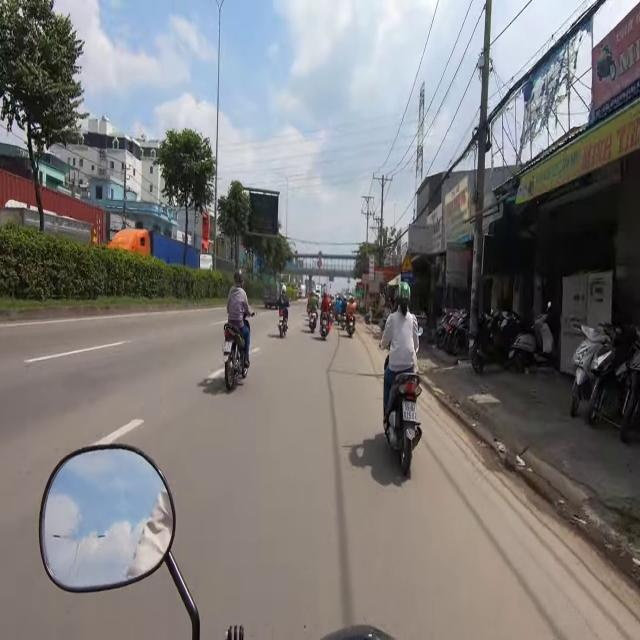bien_trang: (403, 400, 418, 422)
